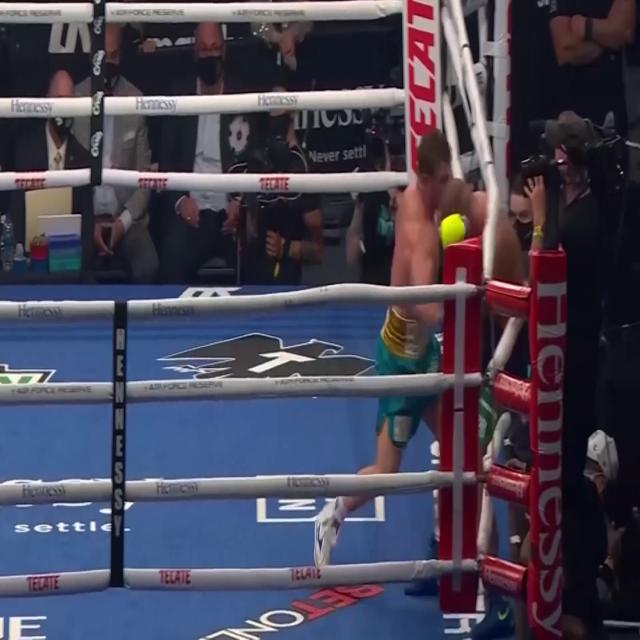boxer_1: (442, 179, 521, 310)
boxer_2: (387, 130, 451, 323)
gloves_1: (440, 213, 466, 247)
gloves_2: (436, 302, 442, 332)
